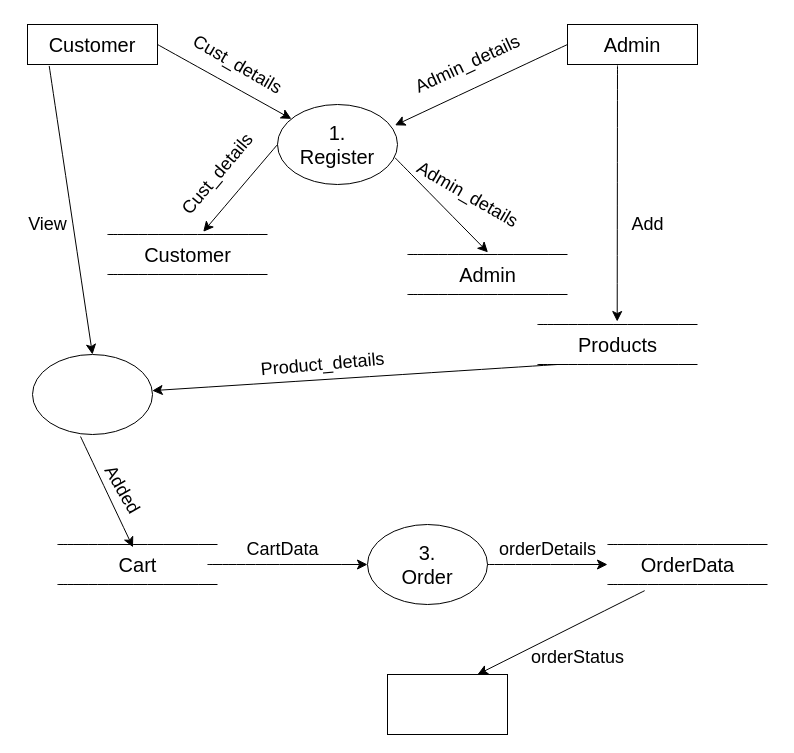
Image size: 794x753. Some labels were removed from this diagram. The box of each missing label's shape, as (x1, y1, x2, y2) in pixels:
2. Products: (32, 354, 152, 434)
Order Delivered: (386, 674, 508, 734)
